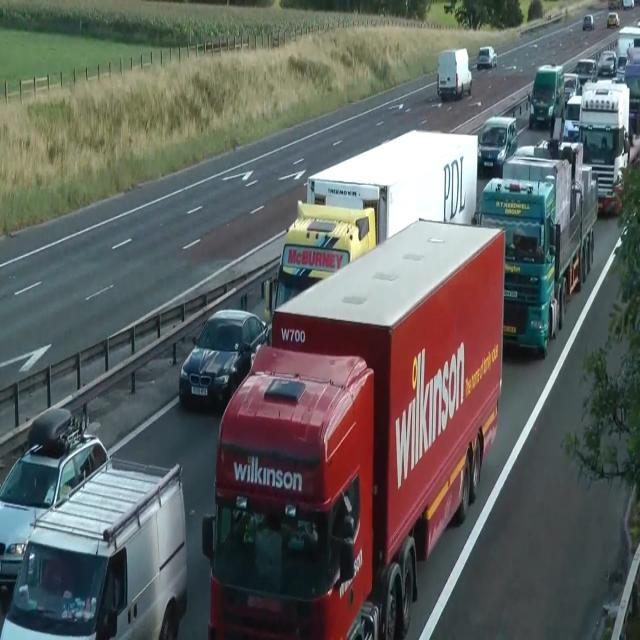bus: (179, 308, 269, 411), (477, 116, 517, 174), (597, 191, 621, 216), (597, 50, 617, 76), (477, 46, 498, 70), (563, 72, 579, 103), (615, 55, 627, 82), (606, 12, 620, 28), (582, 14, 594, 30), (444, 1, 456, 13), (622, 0, 634, 9), (632, 18, 640, 28)
car: (202, 215, 506, 638), (201, 342, 375, 638), (472, 138, 598, 358), (262, 198, 376, 324)
jeep: (0, 452, 188, 638), (0, 404, 110, 592), (528, 62, 564, 129)
minibus: (262, 128, 478, 325), (306, 128, 478, 246), (578, 79, 630, 215), (437, 47, 472, 100), (623, 44, 639, 138), (617, 25, 639, 59)
